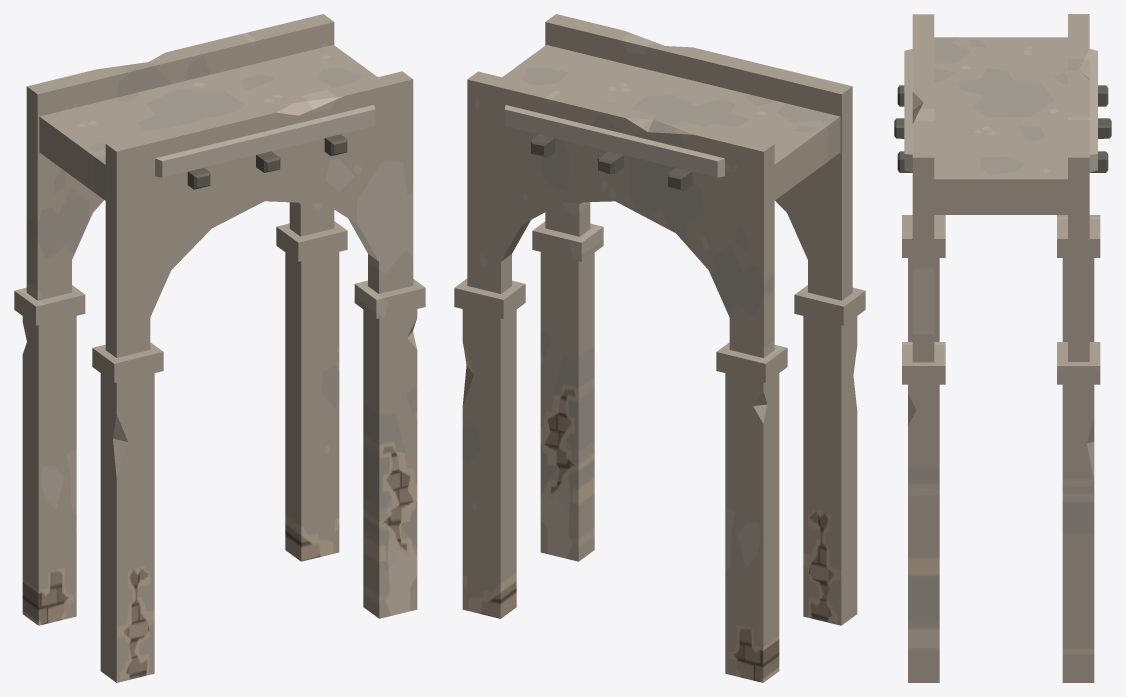
Rendered from SM_Bld_Village_ArchwayBridge_01.glb.
The picture shows the model from 3 angles, left to right: view 1: azimuth 30°, elevation 25°; view 2: azimuth 150°, elevation 25°; view 3: azimuth 270°, elevation 25°; orthographic projection.
Visible parts, largest first — view 1: SM_Bld_Village_ArchwayBridge_01; view 2: SM_Bld_Village_ArchwayBridge_01; view 3: SM_Bld_Village_ArchwayBridge_01.
Part boxes in pixels (left/top/right/bottom): SM_Bld_Village_ArchwayBridge_01: left=14, top=14, right=425, bottom=682; SM_Bld_Village_ArchwayBridge_01: left=454, top=14, right=865, bottom=682; SM_Bld_Village_ArchwayBridge_01: left=894, top=14, right=1111, bottom=682.
Bounding box in the file's own units: 4.11 × 6.67 × 2.51.
Materials: 1 (1 with a texture image).
